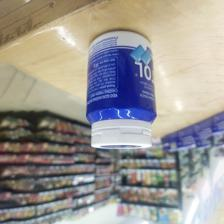Xylitol_blue: (87, 31, 155, 152)
